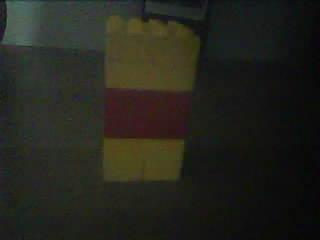lego: (101, 13, 201, 183)
